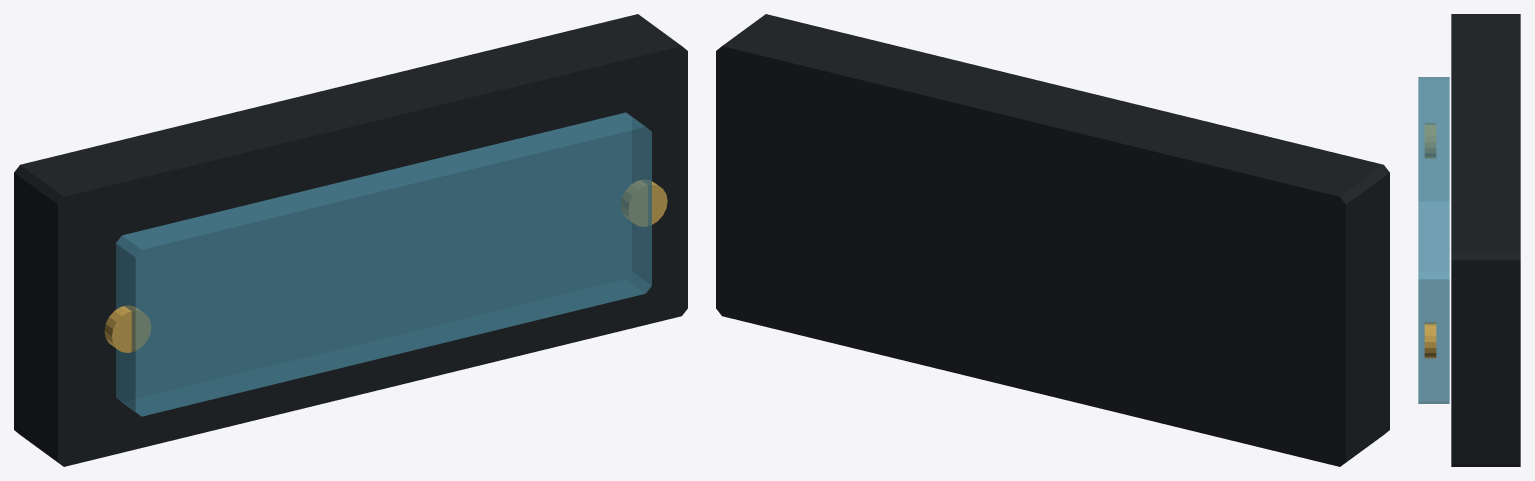
File: 08B_Aegis_Shield_View_Module.obj
3 views of the same model, side by side, from view 1: azimuth 30°, elevation 25°; view 2: azimuth 150°, elevation 25°; view 3: azimuth 270°, elevation 25° (orthographic). The views are drawn at different scales.
Parts seen in each view (by area): view 1: 000_Bezel, 001_ArmoredGlass, 002_GlassBolt_-0.34, 003_GlassBolt_0.34; view 2: 000_Bezel; view 3: 000_Bezel, 001_ArmoredGlass, 003_GlassBolt_0.34, 002_GlassBolt_-0.34.
Boxes of the visible parts, x1,y1,x2,y2 form: 000_Bezel: (14, 14, 687, 466); 001_ArmoredGlass: (116, 112, 651, 416); 002_GlassBolt_-0.34: (104, 305, 150, 352); 003_GlassBolt_0.34: (621, 180, 667, 226); 000_Bezel: (716, 14, 1389, 466); 000_Bezel: (1451, 14, 1520, 466); 001_ArmoredGlass: (1418, 77, 1449, 403); 003_GlassBolt_0.34: (1424, 322, 1436, 358); 002_GlassBolt_-0.34: (1425, 123, 1435, 158).
Bounding box in the file's own units: 0.83 × 0.34 × 0.1475.
